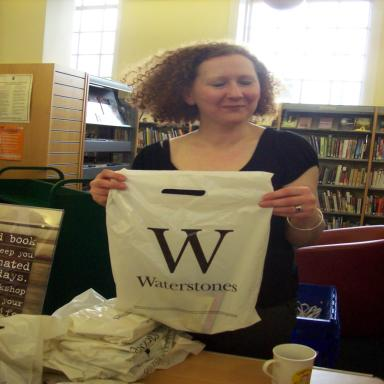plasticbag: (104, 168, 282, 336), (0, 286, 207, 383)
